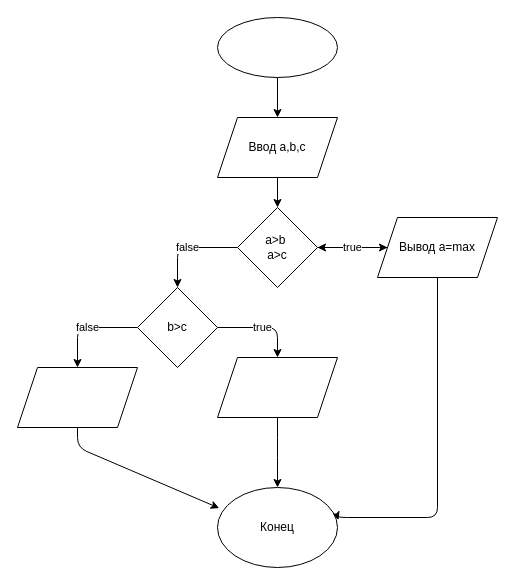
Some shapes in this 515 by 585 pixel diagram are drawn without their labels. The shapes that lost their labels are listed below. From the top down, each one's centre as x and y in pixels, then its label:
At (x=277, y=47): "START".
At (x=77, y=397): "Вывод c=max".
At (x=277, y=387): "Вывод b=max".
